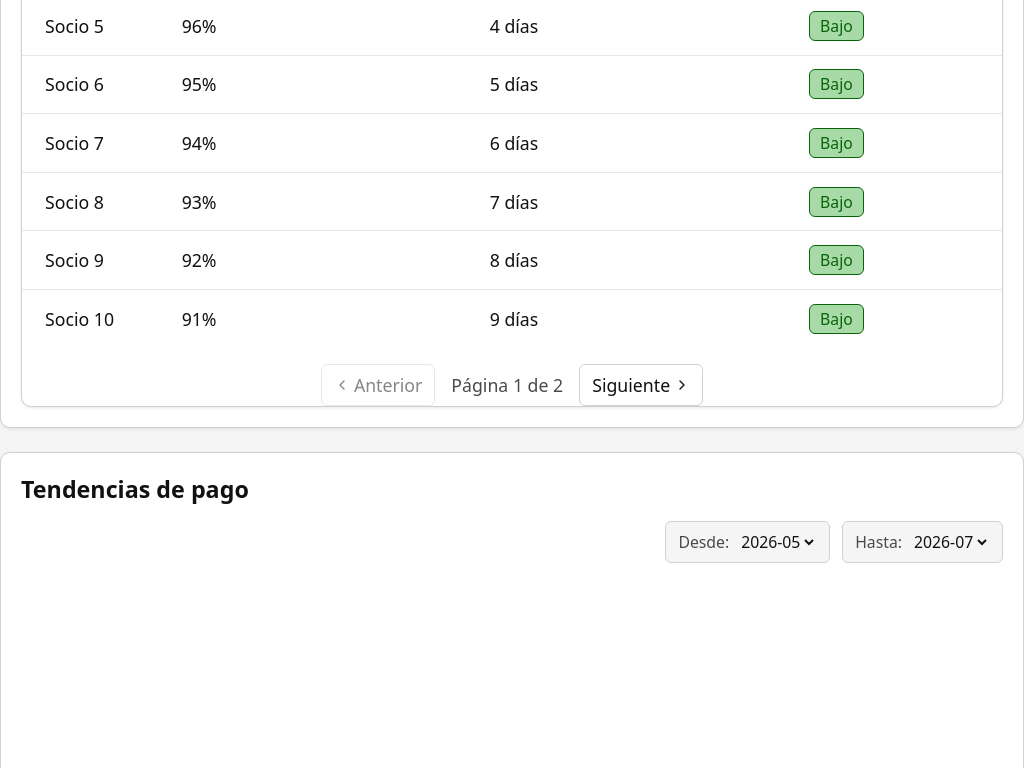
it: MorosidadTab › pagina la predicción de morosidad de a 10 socios
(page scrolled)
Check: the text "Socio 11" is not shown
Check: the text "Página 1 de 2" is shown, box left=451, top=373, right=563, bottom=397
Click the button with aria-label "Página siguiente".
click(641, 385)  # box left=579, top=364, right=703, bottom=406
(page scrolled)
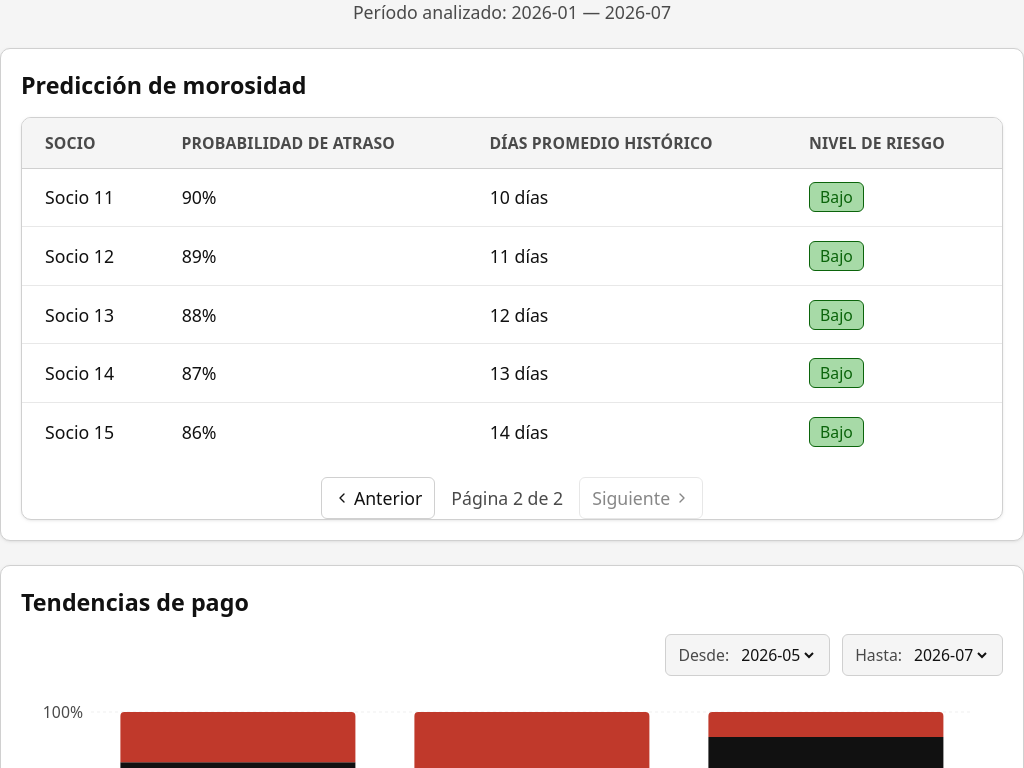
Check: the text "Socio 11" is shown, box left=22, top=168, right=159, bottom=227
